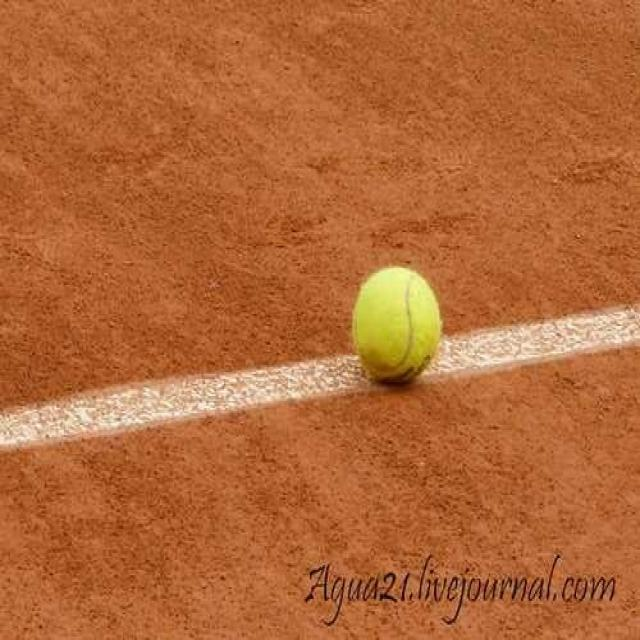Tennis_Ball: (353, 266, 442, 386)
